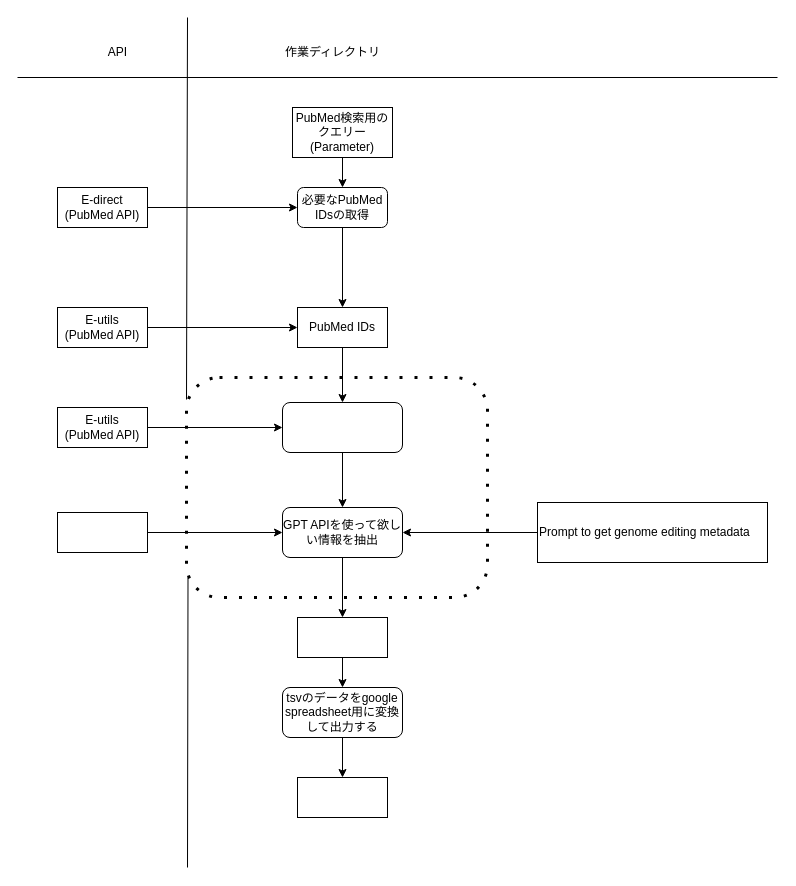
The diagram is 796 pixels wide and 886 high, and some of its shapes have lost their labels. The shapes that lost their labels are listed below. From the top down, each one's centre as x and y in pixels, then its label:
At (342,427): "IDを1つずつ処理 ABSTRACTを取得".
At (102,532): "GPT API".
At (342,637): "取得データ（tsv?)".
At (342,797): "google spreadsheet".
